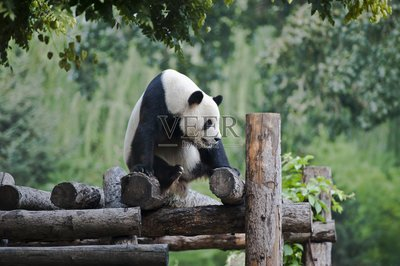panda: (129, 69, 241, 192)
